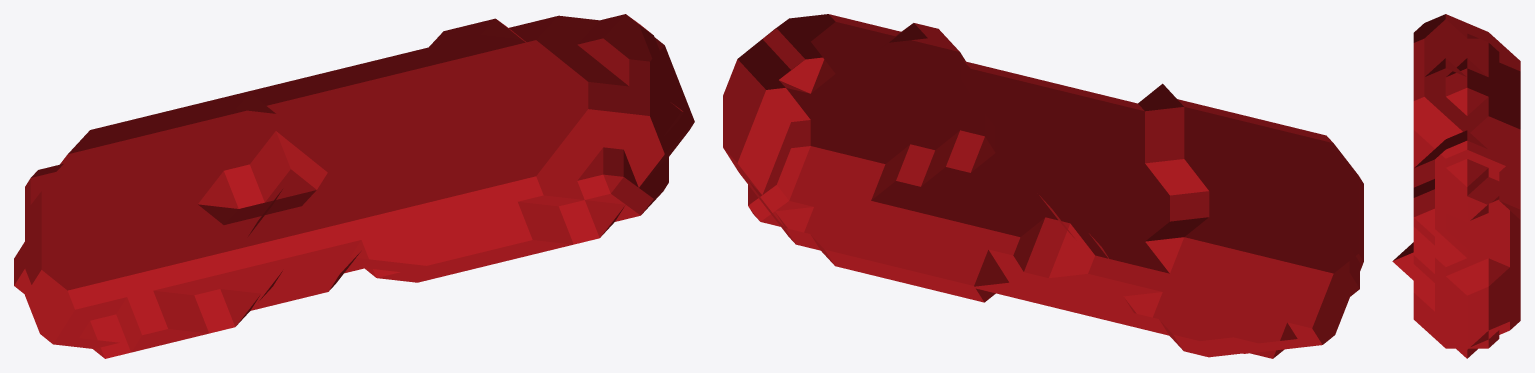
The model's file is region_0018_Cgus__commissure_of_the_secondary_gustatory_nuclei_.glb.
3 renders of one model, left to right at view 1: azimuth 30°, elevation 25°; view 2: azimuth 150°, elevation 25°; view 3: azimuth 270°, elevation 25°, orthographic. The views are drawn at different scales.
Visible parts, largest first — view 1: world; view 2: world; view 3: world.
Boxes of the visible parts, box(x1,y1,x2,y2) form: world: box(14, 14, 694, 358); world: box(723, 14, 1363, 358); world: box(1392, 14, 1520, 358).
Size of the model in its own units: 0.2 by 0.072 by 0.048.
